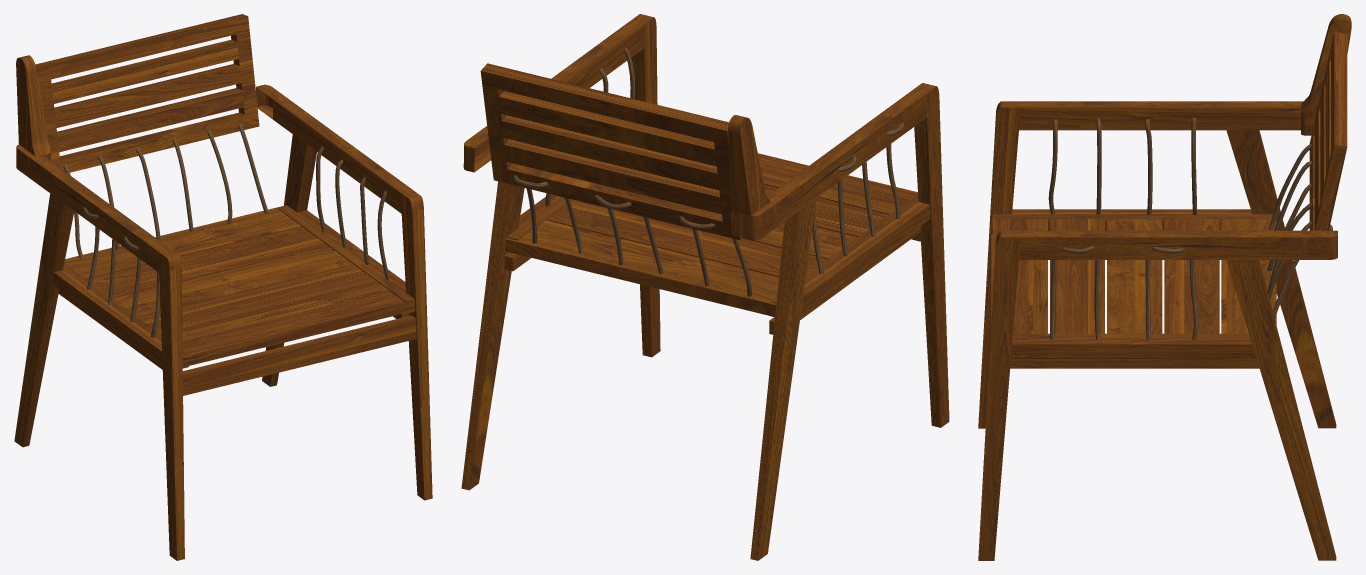
Rendered from Rheina-Chair.glb.
3 renders of one model, left to right at view 1: azimuth 30°, elevation 25°; view 2: azimuth 150°, elevation 25°; view 3: azimuth 270°, elevation 25°, orthographic. The views are drawn at different scales.
Visible parts, largest first — view 1: Cube.001, Cube.007, Cube.009, Cube.012, BezierCurve.003, Cube.005, Cube.003, Cube.006, Cube.013; view 2: Cube.001, Cube.009, Cube.007, BezierCurve.003, Cube.005, Cube.003, Cube.006, Cube.013; view 3: Cube.001, Cube.007, BezierCurve.003, Cube.006, Cube.009, Cube.014, Cube.005, Cube.003.
Part boxes in pixels (<box>): Cube.001: <box>14,84,432,560</box>; Cube.007: <box>64,205,415,367</box>; Cube.009: <box>35,14,259,172</box>; Cube.012: <box>182,315,416,395</box>; BezierCurve.003: <box>63,124,389,337</box>; Cube.005: <box>51,263,188,368</box>; Cube.003: <box>16,55,50,160</box>; Cube.006: <box>277,205,414,313</box>; Cube.013: <box>58,289,162,369</box>; Cube.001: <box>461,14,949,560</box>; Cube.009: <box>480,63,741,240</box>; Cube.007: <box>505,153,917,316</box>; BezierCurve.003: <box>513,48,904,296</box>; Cube.005: <box>770,194,930,317</box>; Cube.003: <box>728,115,770,239</box>; Cube.006: <box>507,194,572,240</box>; Cube.013: <box>769,226,920,334</box>; Cube.001: <box>978,101,1337,560</box>; Cube.007: <box>992,215,1276,333</box>; BezierCurve.003: <box>1048,117,1332,340</box>; Cube.006: <box>1011,333,1256,357</box>; Cube.009: <box>1309,31,1347,230</box>; Cube.014: <box>1010,358,1259,368</box>; Cube.005: <box>993,209,1272,230</box>; Cube.003: <box>1301,14,1351,135</box>.
Bounding box in the file's own units: 0.5149 × 0.7064 × 0.5751.
Materials: 2 (2 with a texture image).
